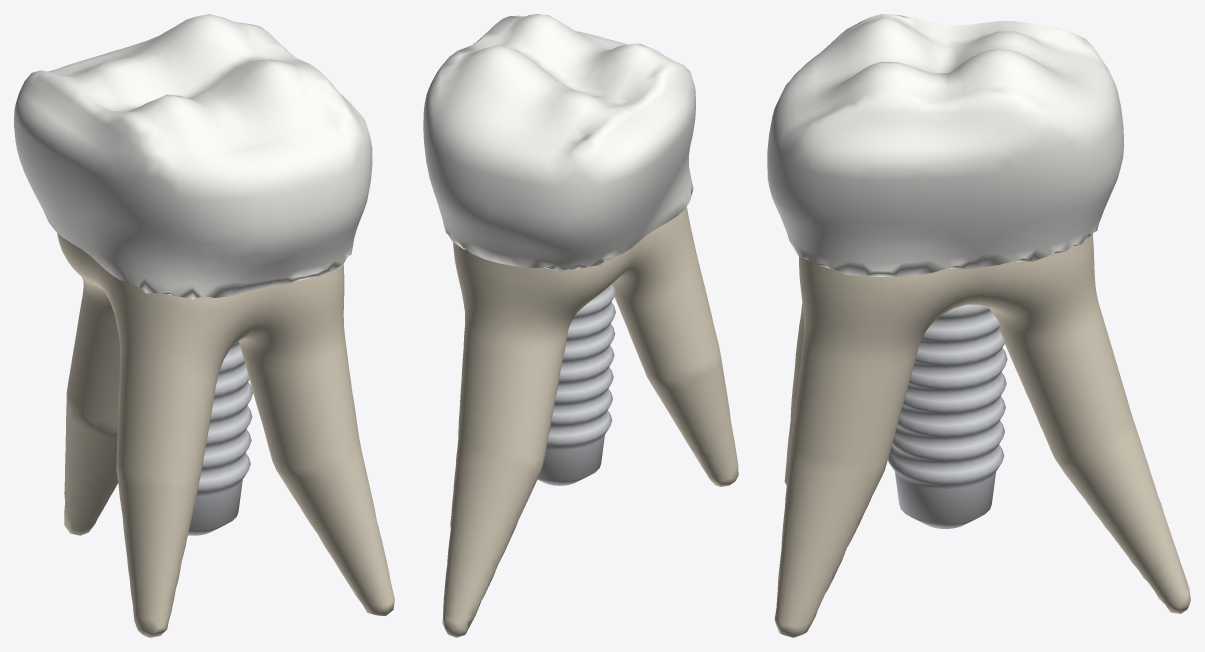
3 renders of one model, left to right at view 1: azimuth 30°, elevation 25°; view 2: azimuth 150°, elevation 25°; view 3: azimuth 270°, elevation 25°, orthographic. The views are drawn at different scales.
Parts seen in each view (by area): view 1: crown, root, implant; view 2: crown, root, implant; view 3: crown, root, implant.
Part boxes in pixels (x1,y1,x2,y2): crown: [14, 14, 372, 299]; root: [57, 233, 394, 637]; implant: [188, 341, 253, 535]; crown: [423, 14, 695, 270]; root: [442, 206, 738, 637]; implant: [537, 284, 615, 485]; crown: [767, 14, 1123, 276]; root: [774, 234, 1190, 637]; implant: [888, 304, 1007, 528].
Size of the model in its own units: 9.18 by 19.22 by 12.7.
